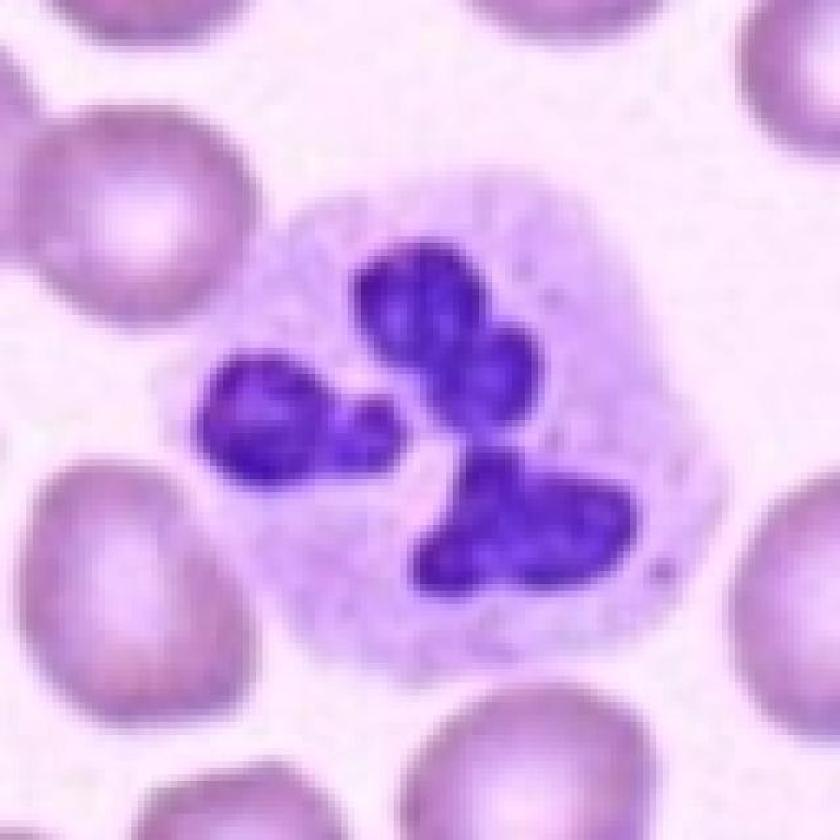neutrophil: (142, 170, 730, 690)
